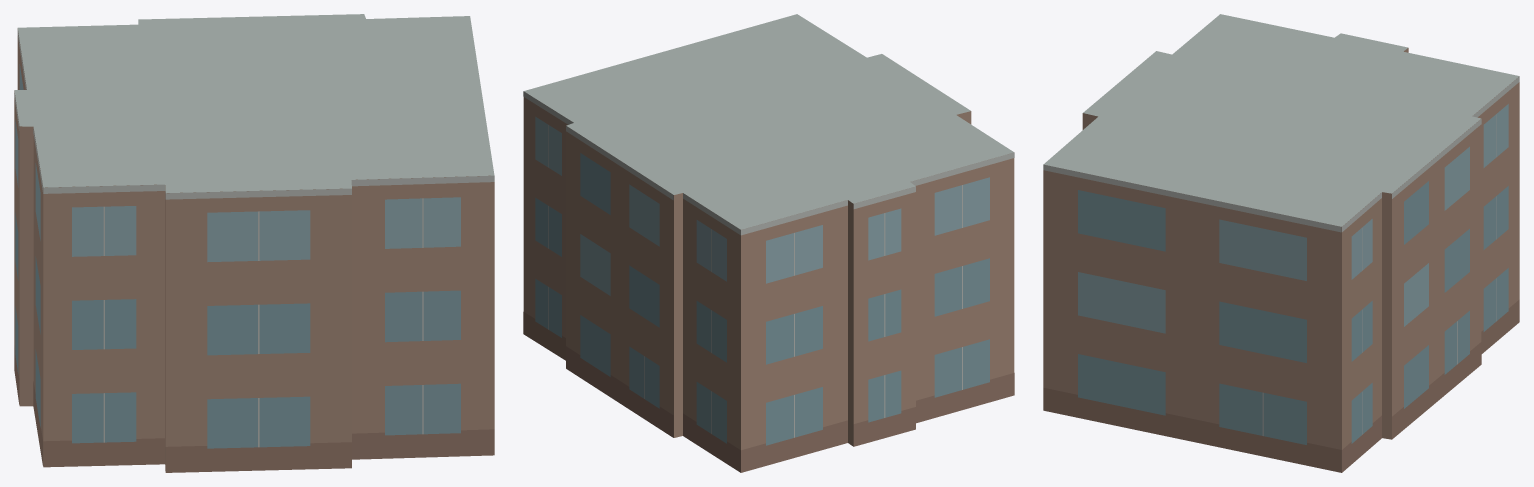
Rendered from survey-upis-32890161.glb.
3 renders of one model, left to right at view 1: azimuth 30°, elevation 25°; view 2: azimuth 150°, elevation 25°; view 3: azimuth 270°, elevation 25°, orthographic. The views are drawn at different scales.
Visible parts, largest first — view 1: survey-upis-32890161.tmp; view 2: survey-upis-32890161.tmp; view 3: survey-upis-32890161.tmp.
Boxes of the visible parts, x1=… form: survey-upis-32890161.tmp: x1=14, y1=14, x2=494, y2=472; survey-upis-32890161.tmp: x1=523, y1=14, x2=1014, y2=472; survey-upis-32890161.tmp: x1=1043, y1=14, x2=1519, y2=472.
Size of the model in its own units: 19.68 by 10.6 by 18.61.
